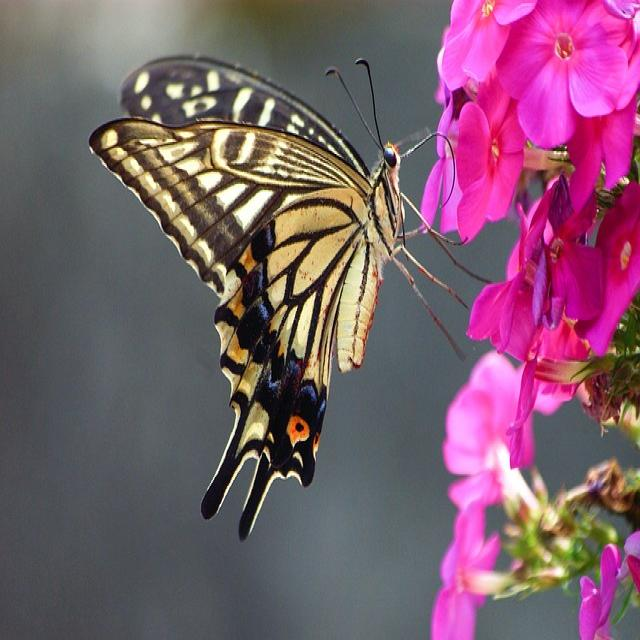butterfly: (87, 55, 416, 543)
